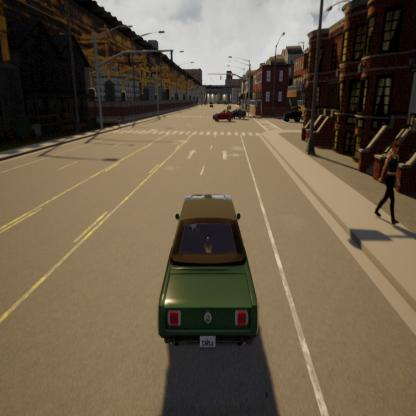Cars: (159, 194, 256, 351), (212, 108, 233, 124), (229, 104, 248, 121), (284, 108, 302, 124)
Pedestrian: (375, 136, 400, 228)
